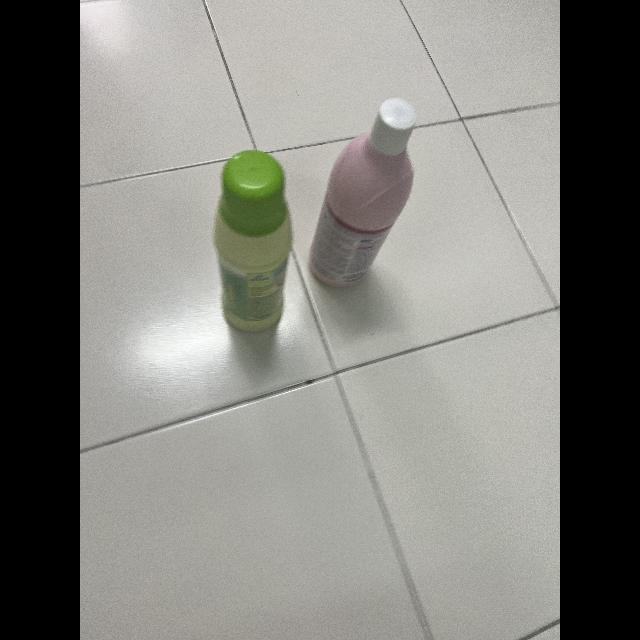chemical_plastic_bottle: (306, 95, 428, 288), (210, 151, 296, 339)
